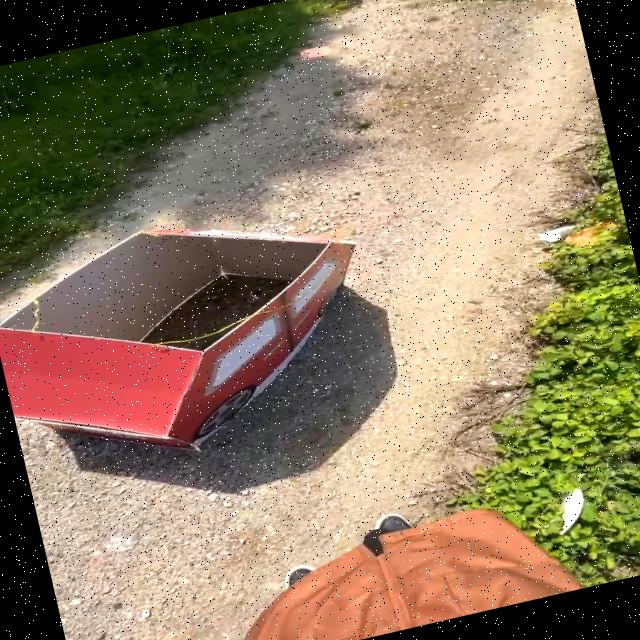red_car: (0, 173, 430, 488)
